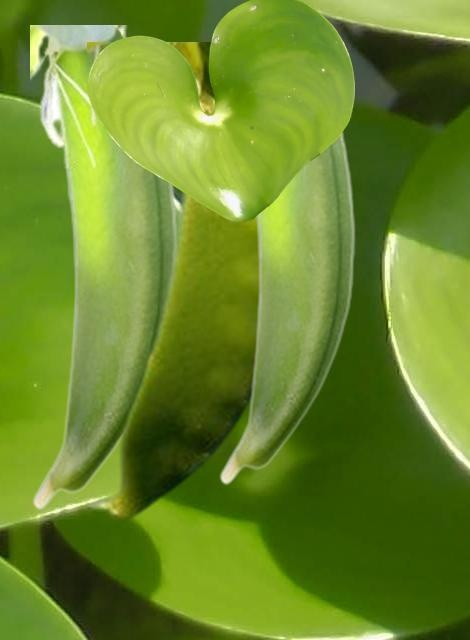pea: (87, 42, 257, 520), (30, 25, 177, 509), (217, 129, 358, 484)
